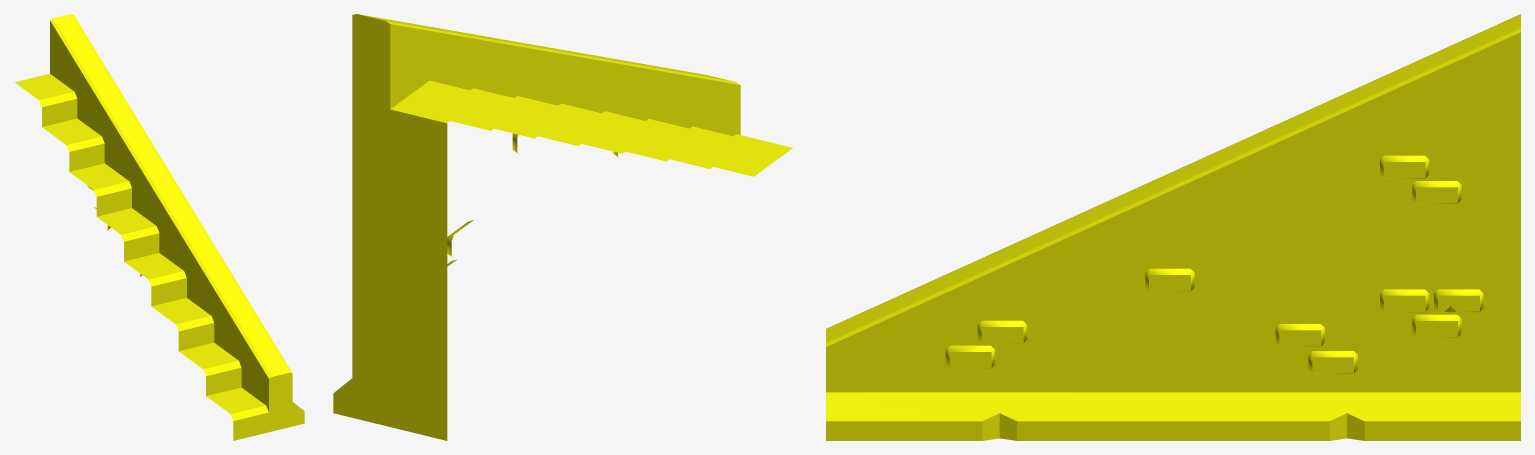
The model's file is kaykit-stairs-long-modular-right.glb.
The picture shows the model from 3 angles, left to right: view 1: azimuth 30°, elevation 25°; view 2: azimuth 150°, elevation 25°; view 3: azimuth 270°, elevation 25°; orthographic projection. The views are drawn at different scales.
Visible parts, largest first — view 1: stairs_long_modular_right; view 2: stairs_long_modular_right; view 3: stairs_long_modular_right.
Part boxes in pixels (box(x1,y1,x2,y2)): stairs_long_modular_right: box(15, 14, 304, 440); stairs_long_modular_right: box(333, 14, 792, 440); stairs_long_modular_right: box(826, 14, 1520, 440).
Bounding box in the file's own units: 1.5 × 5.1 × 8.
